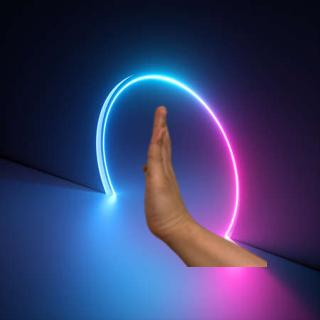RIGHT: (137, 99, 191, 243)
